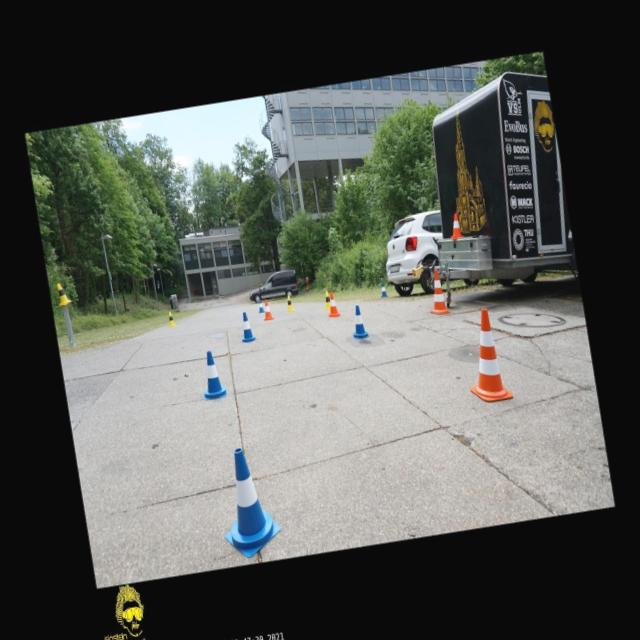blue_cone: (212, 444, 284, 560), (197, 350, 227, 400), (348, 304, 369, 339), (238, 310, 256, 342), (379, 282, 388, 297), (256, 298, 264, 312)
large_orange_cone: (458, 306, 514, 404), (424, 268, 451, 316)
orange_cone: (448, 212, 463, 239), (325, 291, 340, 318), (262, 300, 274, 320)
yellow_cone: (56, 282, 70, 306), (322, 291, 332, 310), (284, 294, 294, 312), (166, 311, 176, 327)
